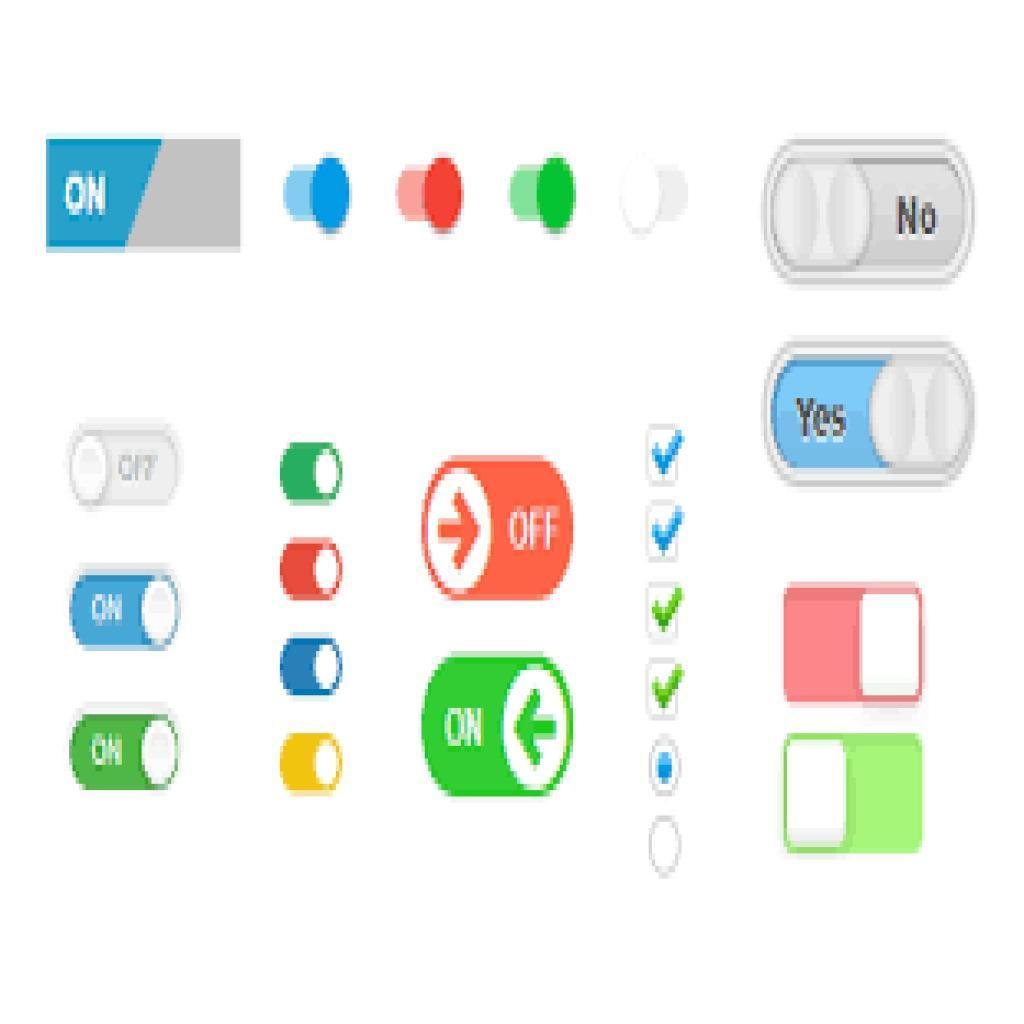checkbox: (646, 582, 685, 645), (648, 660, 687, 720), (649, 501, 685, 563), (648, 426, 684, 486)
radio: (649, 733, 684, 798), (649, 815, 684, 880)
switch: (762, 143, 977, 287), (763, 343, 977, 484), (424, 454, 579, 603), (422, 652, 577, 801), (784, 582, 926, 709), (785, 734, 925, 855), (64, 564, 181, 654), (73, 703, 180, 794), (73, 429, 179, 511), (620, 157, 691, 239), (509, 157, 578, 240), (284, 154, 352, 236), (398, 156, 465, 235), (279, 631, 345, 698), (280, 443, 346, 508), (281, 733, 346, 798), (279, 538, 345, 601)
